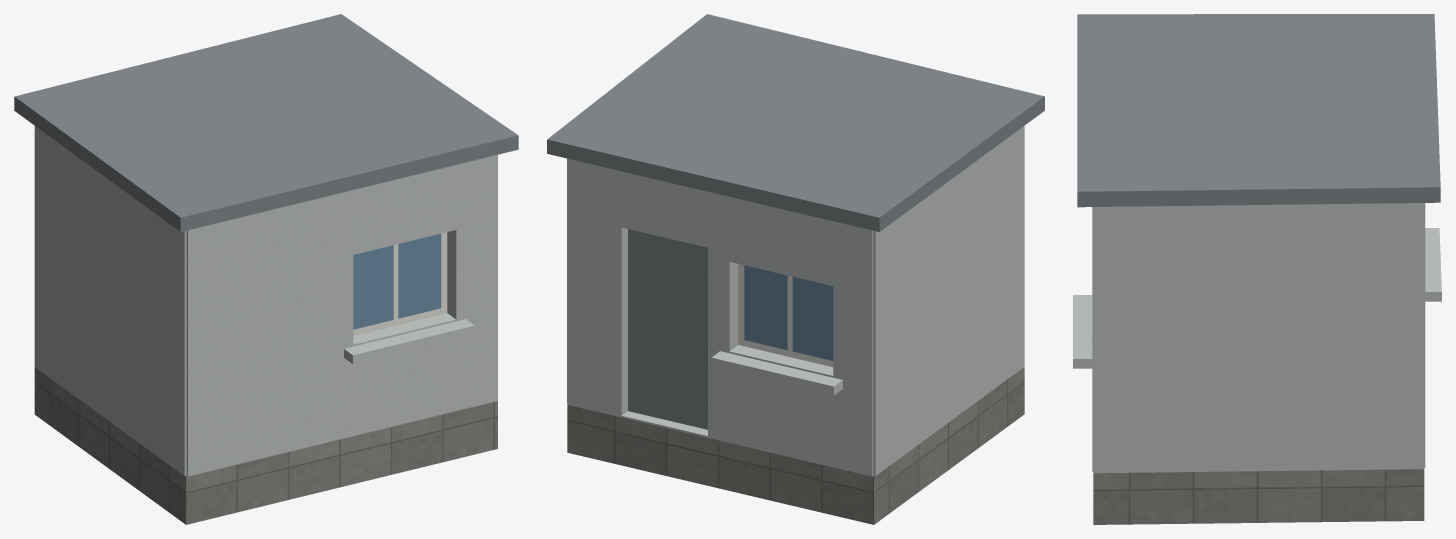
3 renders of one model, left to right at view 1: azimuth 30°, elevation 25°; view 2: azimuth 150°, elevation 25°; view 3: azimuth 270°, elevation 25°, orthographic. The views are drawn at different scales.
Parts seen in each view (by area): view 1: shed3__wall, shed3__greyroof, shed3__stone, shed3__sideglass, shed3__frame; view 2: shed3__wall, shed3__greyroof, shed3__stone, shed3__sideglass, shed3__frame; view 3: shed3__wall, shed3__greyroof, shed3__stone.
Boxes of the visible parts, x1,y1,x2,y2 form: shed3__wall: [34, 126, 497, 476]; shed3__greyroof: [14, 14, 518, 231]; shed3__stone: [34, 367, 497, 524]; shed3__sideglass: [353, 233, 441, 329]; shed3__frame: [353, 232, 447, 335]; shed3__wall: [567, 126, 1024, 476]; shed3__greyroof: [547, 14, 1044, 429]; shed3__stone: [567, 367, 1024, 524]; shed3__sideglass: [744, 265, 833, 360]; shed3__frame: [738, 264, 833, 367]; shed3__wall: [1073, 203, 1441, 473]; shed3__greyroof: [1077, 14, 1440, 207]; shed3__stone: [1093, 468, 1424, 524].
Bounding box in the file's own units: 3.95 × 3.52 × 3.46.
Materials: 5 (2 with a texture image).
